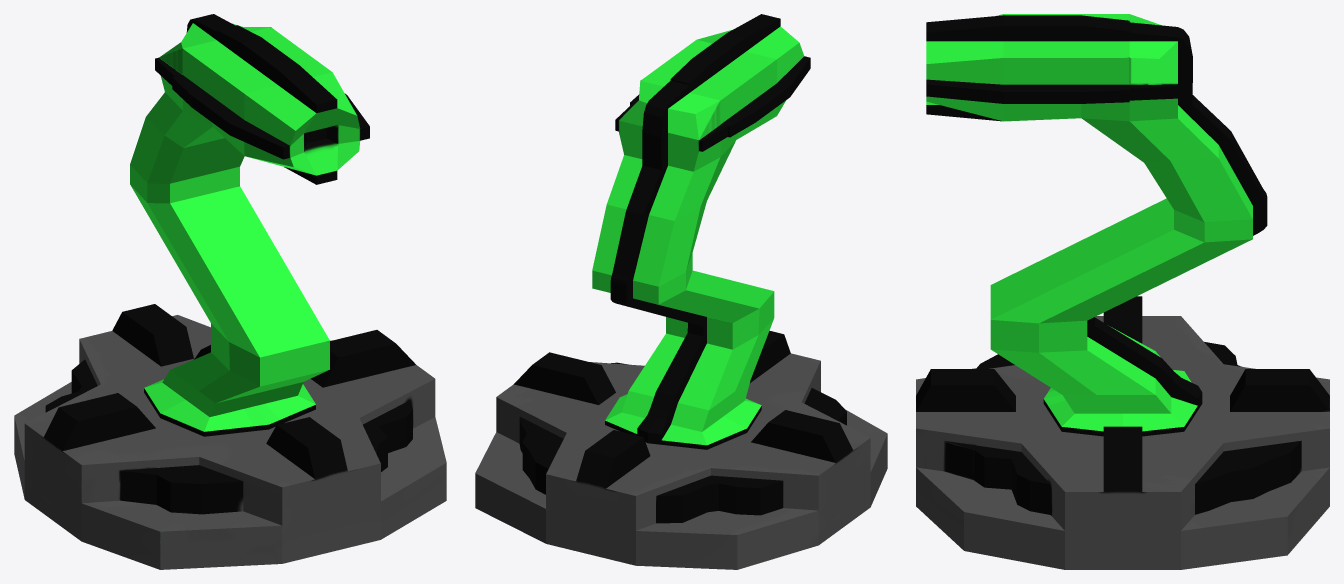
The model's file is Sniper_turret2.fbx.
The picture shows the model from 3 angles, left to right: view 1: azimuth 30°, elevation 25°; view 2: azimuth 150°, elevation 25°; view 3: azimuth 270°, elevation 25°; orthographic projection. The views are drawn at different scales.
Parts seen in each view (by area): view 1: Base, Head; view 2: Base, Head; view 3: Base, Head.
Part boxes in pixels (x1,y1,x2,y2): Base: [14, 304, 446, 569]; Head: [130, 14, 369, 436]; Base: [475, 330, 887, 569]; Head: [592, 14, 810, 449]; Base: [916, 296, 1329, 569]; Head: [926, 14, 1267, 436].
Size of the model in its own units: 239 by 293 by 238.
